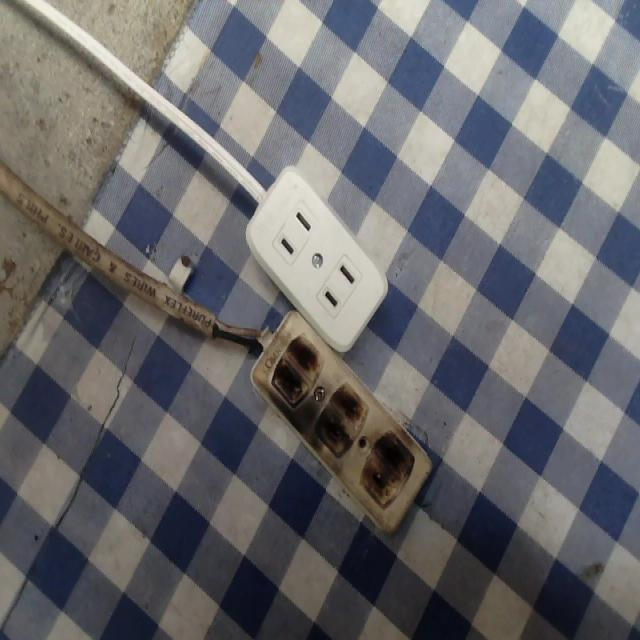-: (365, 425, 420, 508), (315, 373, 365, 456), (269, 330, 318, 406)
